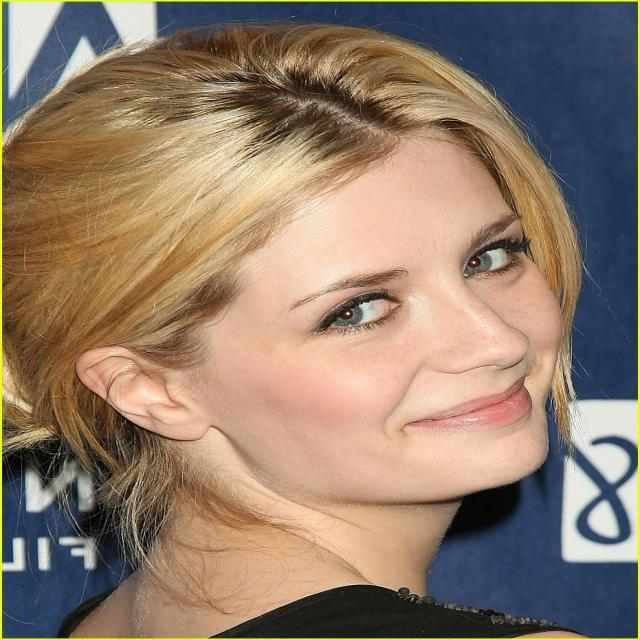no-earmuff: (75, 342, 210, 442)
